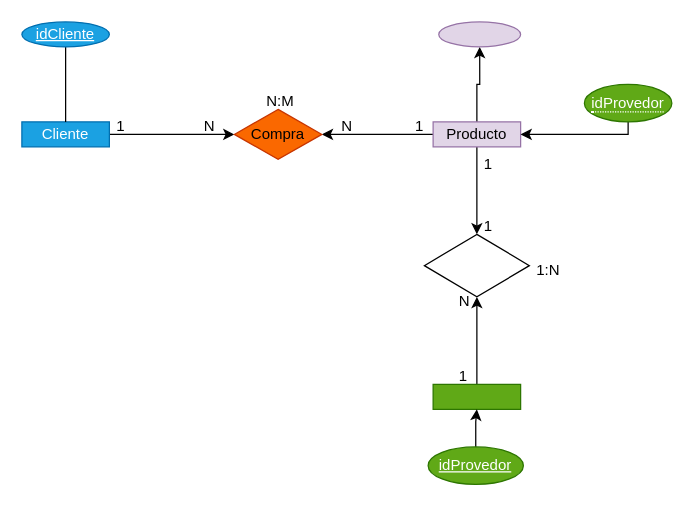
Image size: 694x506. Some labels were removed from this diagram. Each missing label, with the centre of its shape:
"codigo" goes at (x=479, y=34).
"Provedor" goes at (x=476, y=396).
"Suministra" goes at (x=476, y=265).
